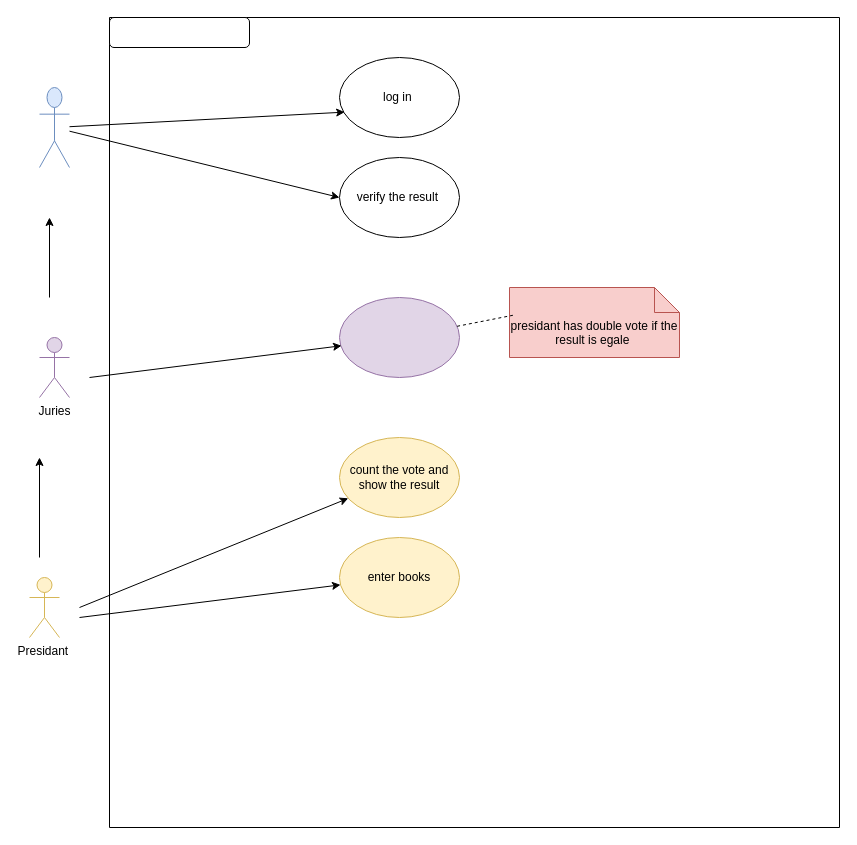
The diagram is 857 pixels wide and 845 high, and some of its shapes have lost their labels. The shapes that lost their labels are listed below. From the top down, each one's box as (x1, y1, x2, y2) in pixels, then its label:
(108, 16, 250, 48): prix_goncourt use case
(38, 86, 70, 168): Public User
(338, 296, 460, 378): vote
